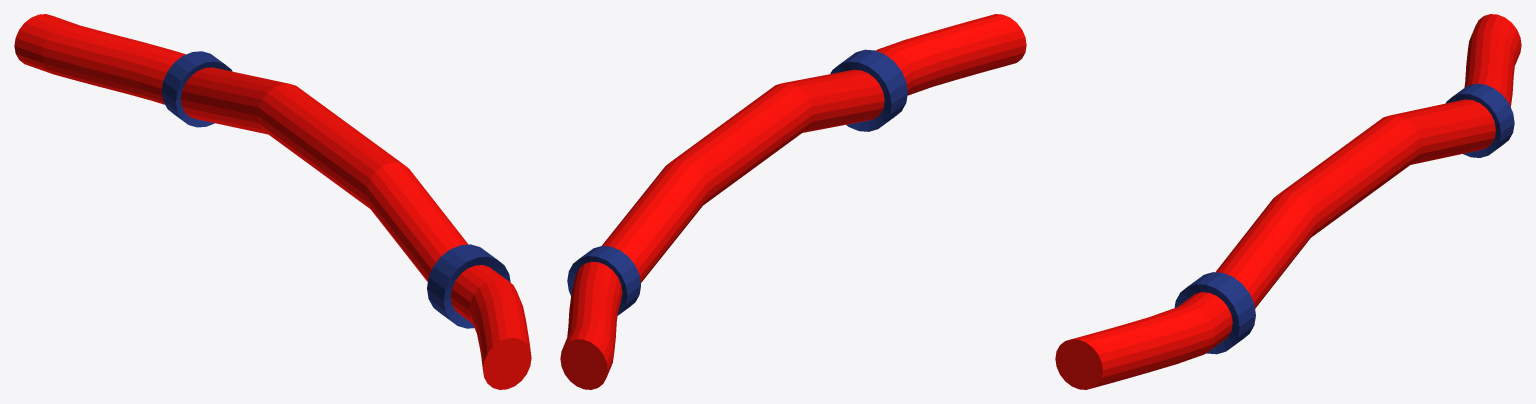
File: Lab Buizen model 9.fbx
3 renders of one model, left to right at view 1: azimuth 30°, elevation 25°; view 2: azimuth 150°, elevation 25°; view 3: azimuth 330°, elevation 25°, orthographic. The views are drawn at different scales.
Parts seen in each view (by area): view 1: pCylinder23; view 2: pCylinder23; view 3: pCylinder23.
Boxes of the visible parts, left/top/right/bottom form: pCylinder23: left=14, top=14, right=531, bottom=389; pCylinder23: left=560, top=14, right=1026, bottom=389; pCylinder23: left=1055, top=14, right=1521, bottom=389.
Bounding box in the file's own units: 52.6 × 39.44 × 319.
Materials: 1 (1 with a texture image).
